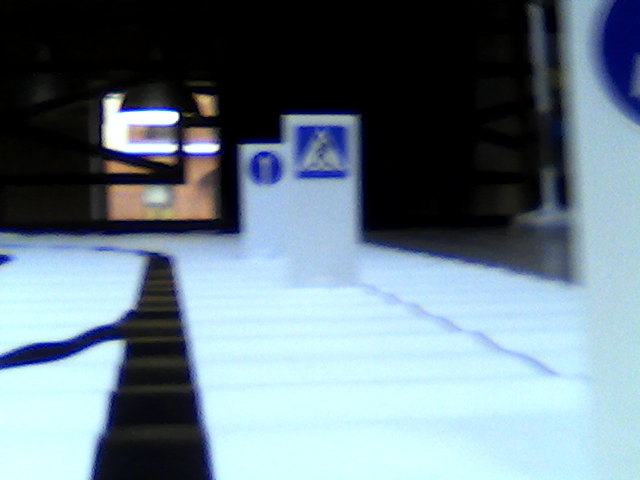pesh: (295, 121, 354, 180)
